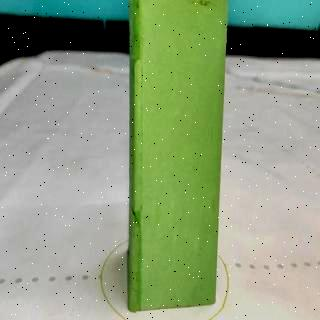greenbox: (126, 0, 230, 314)
